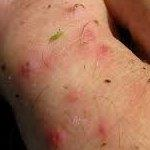Ants: (95, 120, 119, 140), (79, 21, 98, 45), (46, 129, 67, 149), (15, 61, 33, 76), (63, 86, 78, 102), (72, 3, 90, 14), (97, 44, 111, 57)
